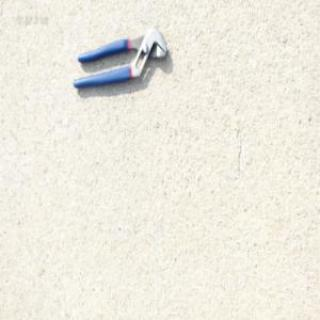Pliertrack_idkeyframe: (72, 24, 168, 90)
